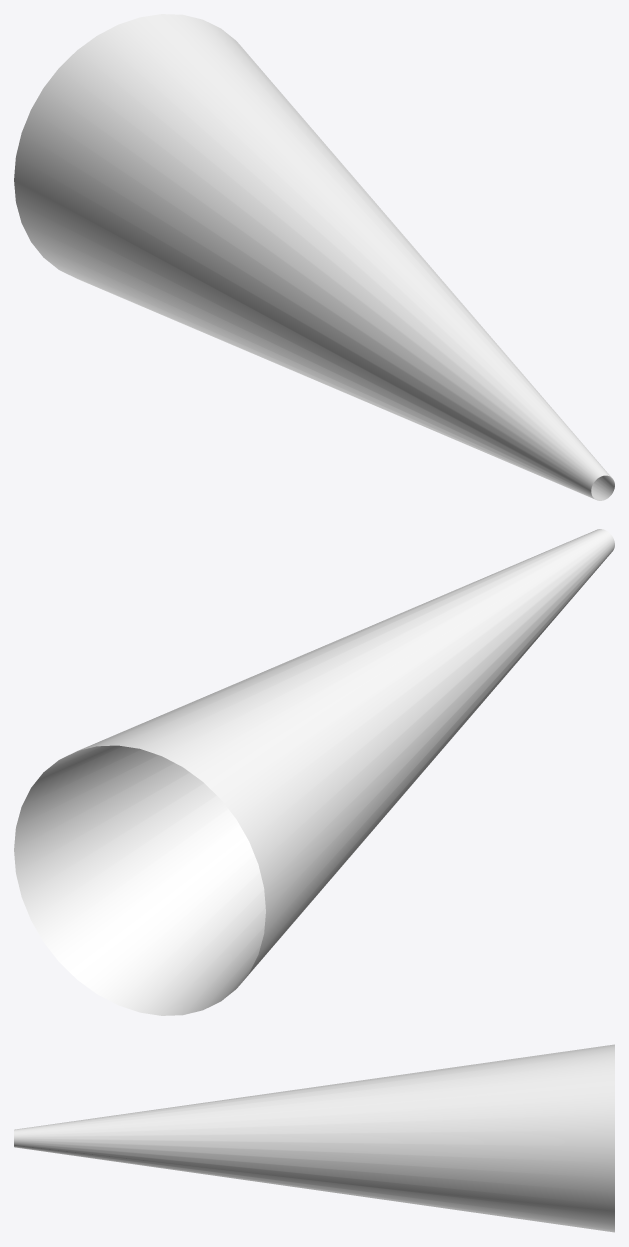
File: lichtkegel_01.dae
3 views of the same model, one above another, from view 1: azimuth 30°, elevation 25°; view 2: azimuth 150°, elevation 25°; view 3: azimuth 270°, elevation 25° (orthographic). The views are drawn at different scales.
Parts seen in each view (by area): view 1: Kegel.1; view 2: Kegel.1; view 3: Kegel.1.
Part boxes in pixels (x1,y1,x2,y2): Kegel.1: [14, 14, 614, 500]; Kegel.1: [14, 529, 614, 1015]; Kegel.1: [14, 1044, 614, 1232].
Size of the model in its own units: 383 by 383 by 1218.
